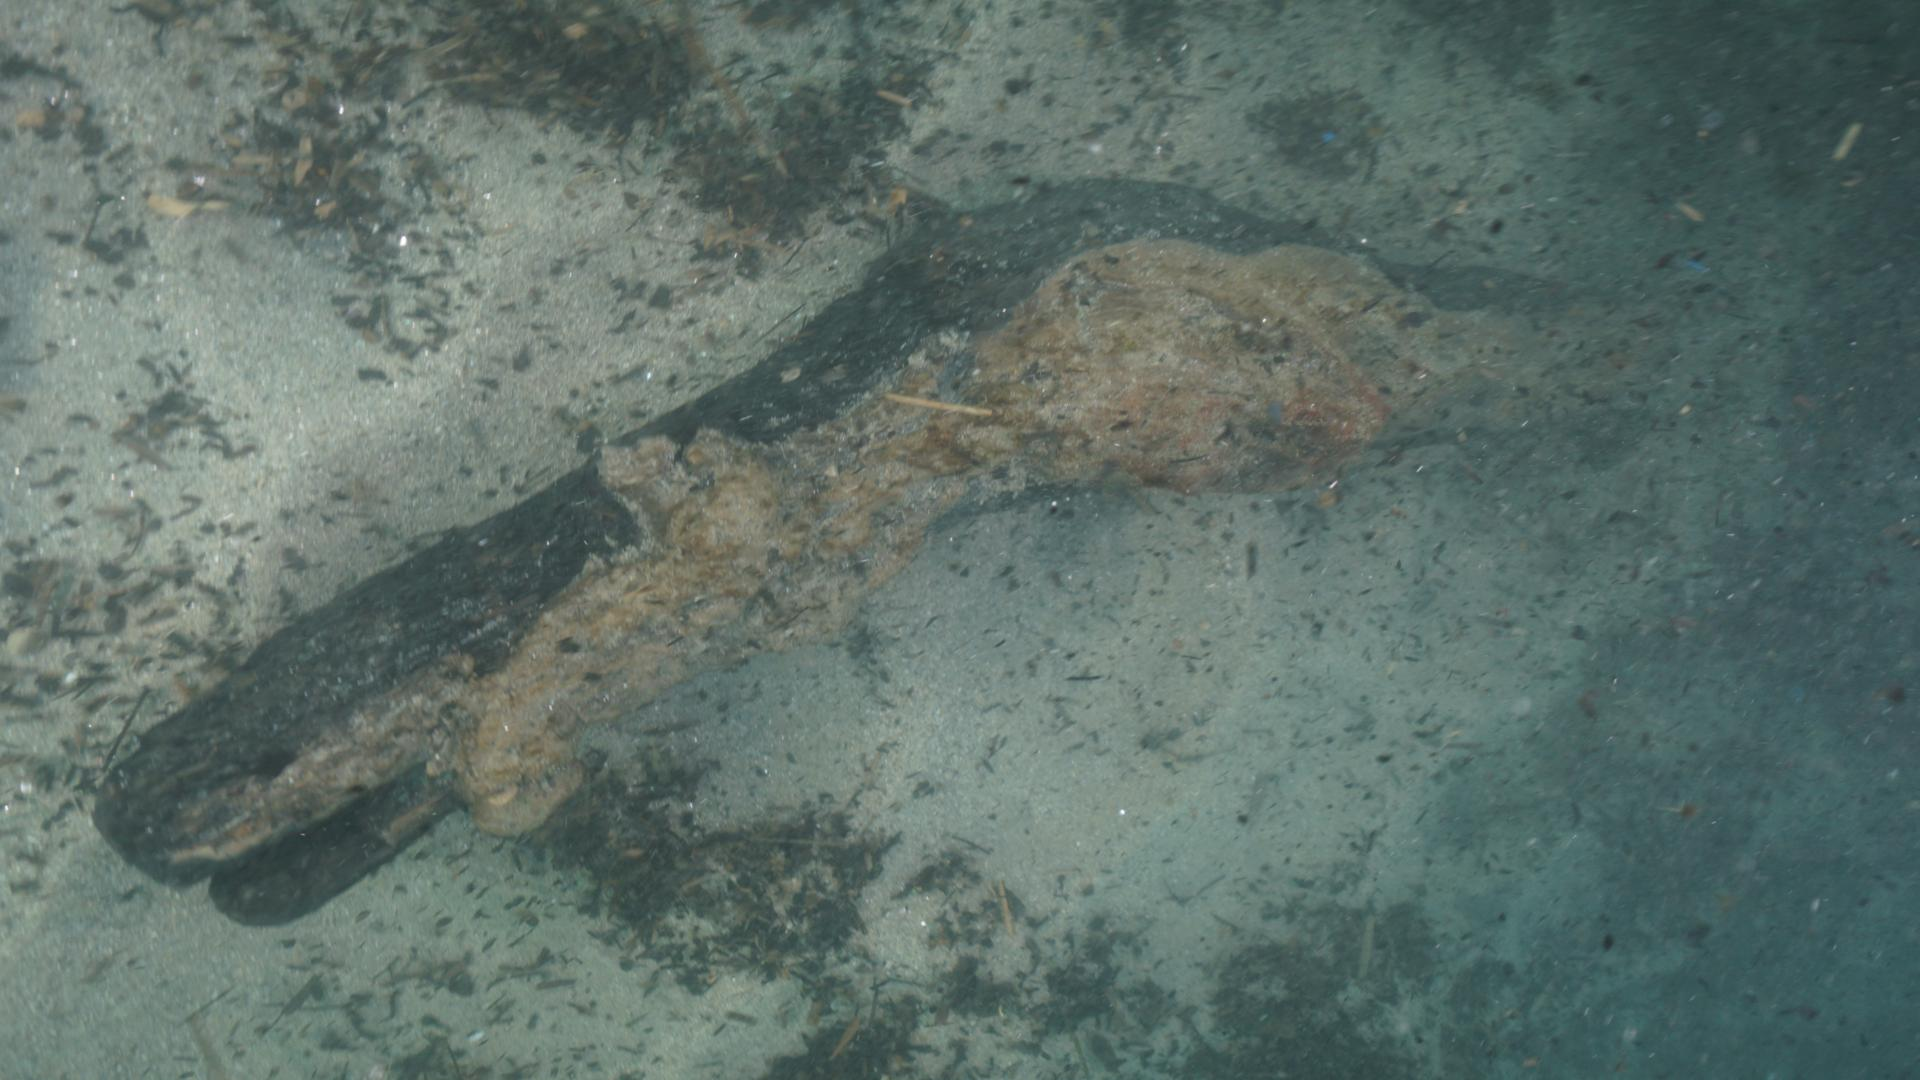wood: (91, 178, 1677, 934)
